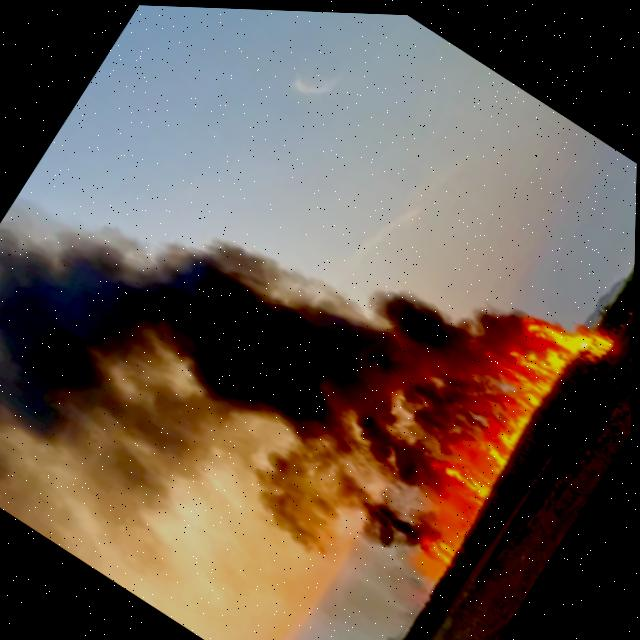Smoke: (0, 44, 552, 598)
